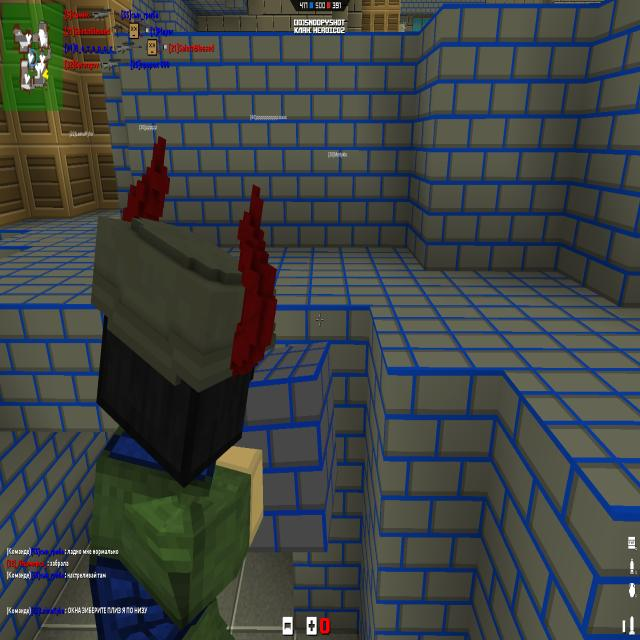player: (82, 184, 257, 636)
